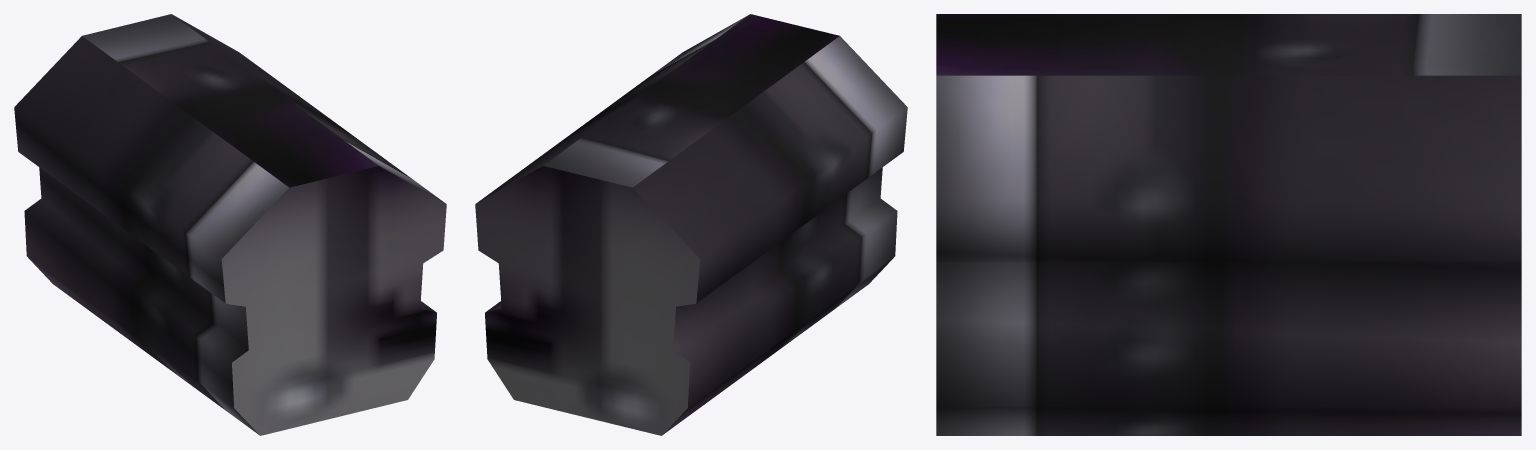
File: utl99.obj
The picture shows the model from 3 angles, left to right: view 1: azimuth 30°, elevation 25°; view 2: azimuth 150°, elevation 25°; view 3: azimuth 270°, elevation 25°; orthographic projection. The views are drawn at different scales.
Visible parts, largest first — view 1: frm-derelict-hull2; view 2: frm-derelict-hull2; view 3: frm-derelict-hull2.
Boxes of the visible parts, x1=… form: frm-derelict-hull2: x1=14, y1=14, x2=446, y2=435; frm-derelict-hull2: x1=475, y1=14, x2=907, y2=435; frm-derelict-hull2: x1=936, y1=14, x2=1521, y2=435.
Bounding box in the file's own units: 3.59 × 3.68 × 5.73.
Materials: 1 (1 with a texture image).
